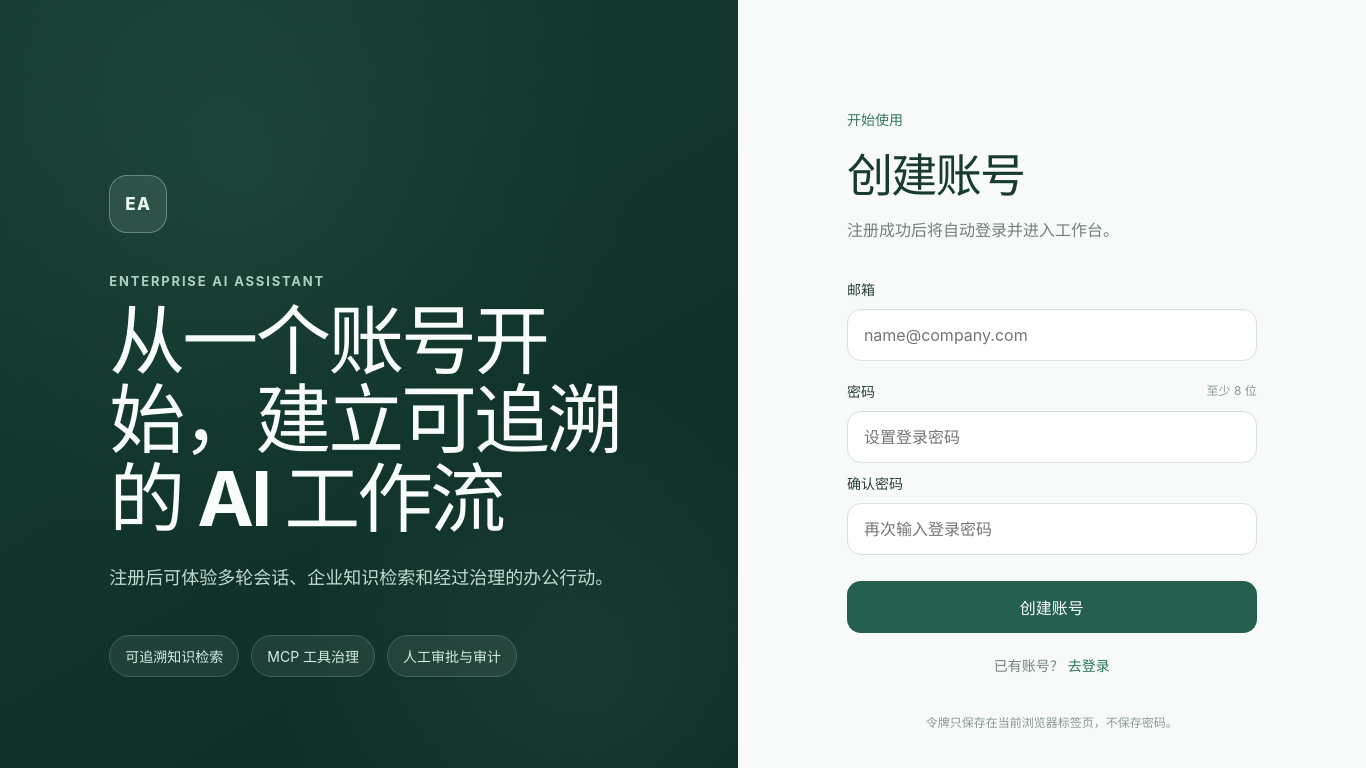
Test: RegisterView › 确认密码不一致时不发送注册请求
The width and height of the screenshot is (1366, 768).
Type " Demo@Example.com " into the field with test id "register-email" at (1052, 335), box [847,309,1257,361]
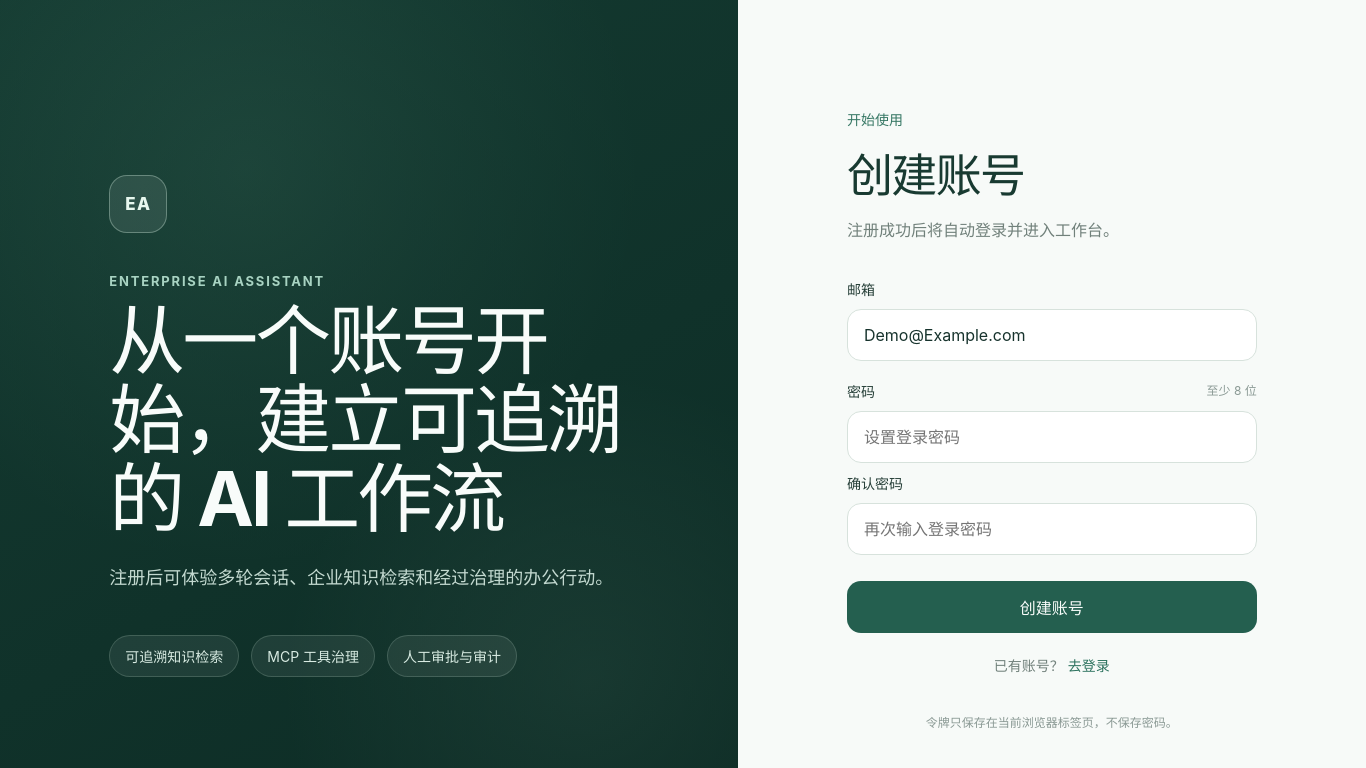
Type "password123" into the password field with test id "register-password" at (1052, 437), box [847,411,1257,463]
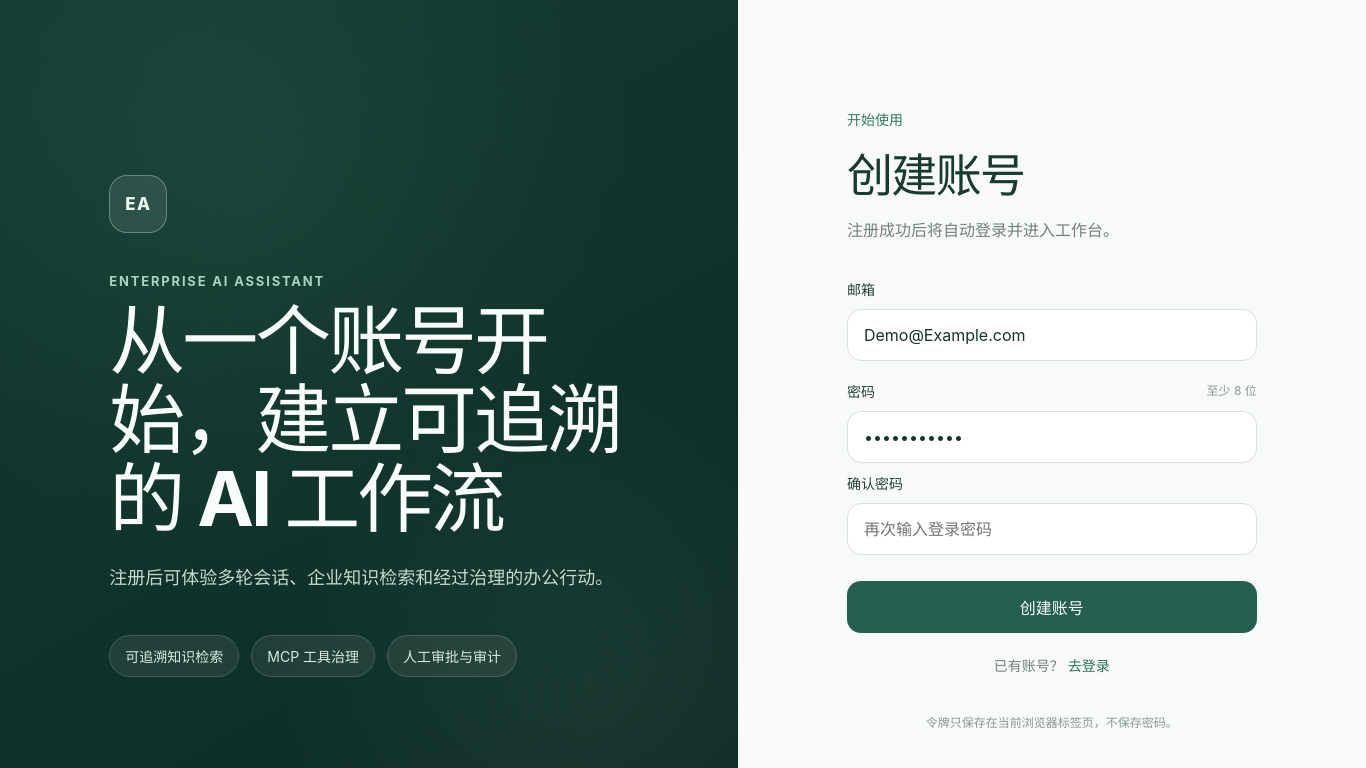
Type "different123" into the password field with test id "register-confirm-password" at (1052, 529), box [847,503,1257,555]
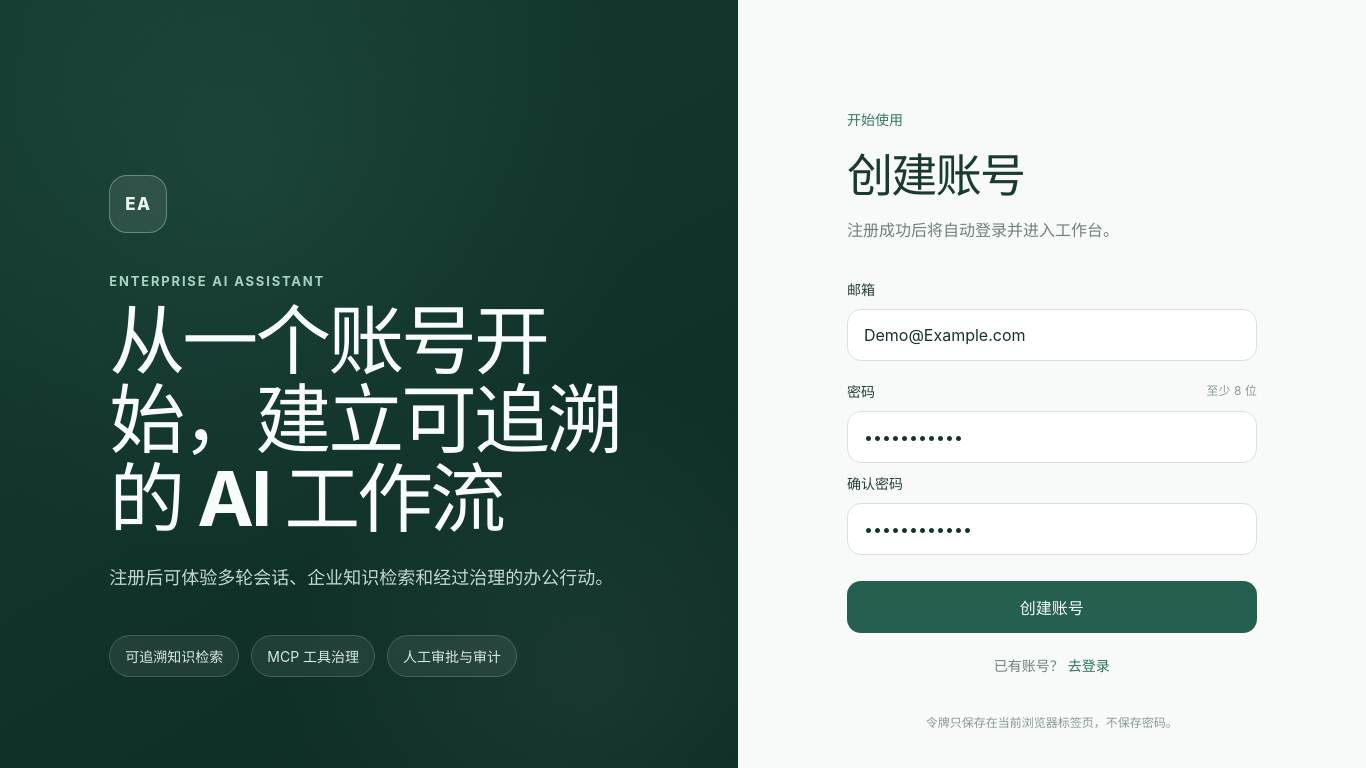
Submit the form, box [847,279,1257,633]
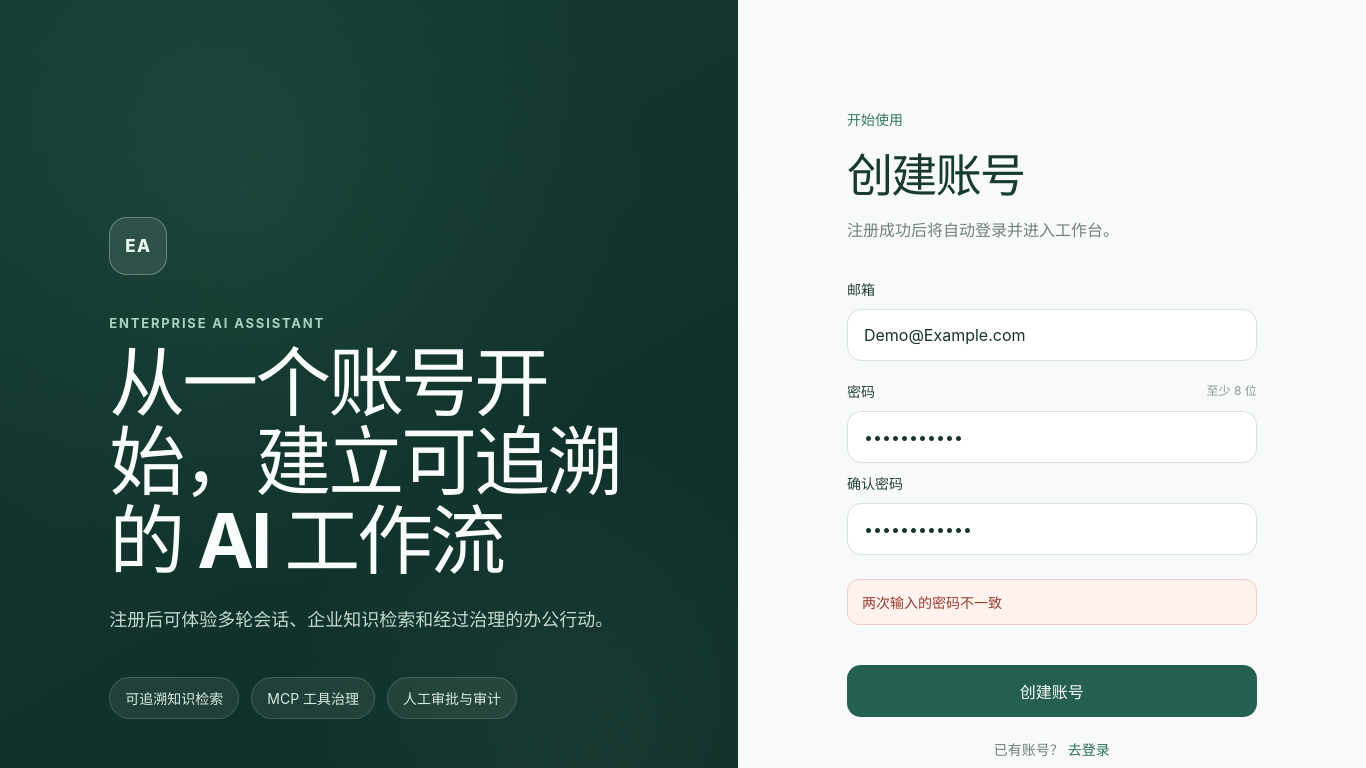
Check: the message "两次输入的密码不一致" is shown, box [847,579,1257,625]
